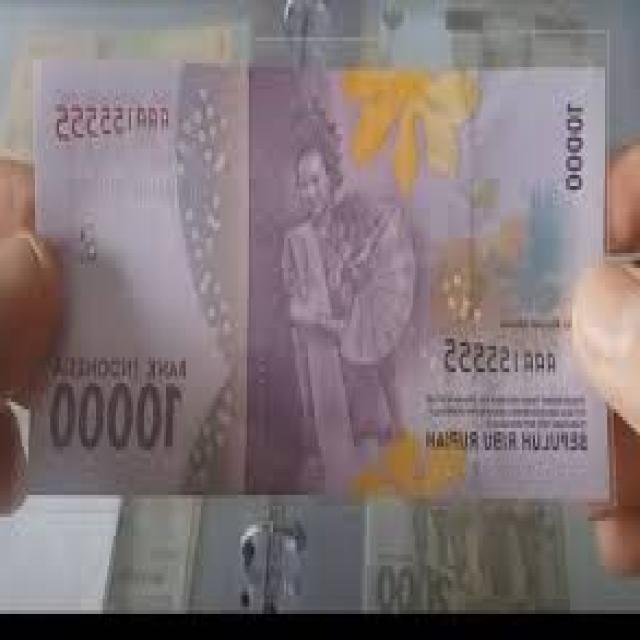sepuluh ribu rupiah: (22, 64, 606, 498)
